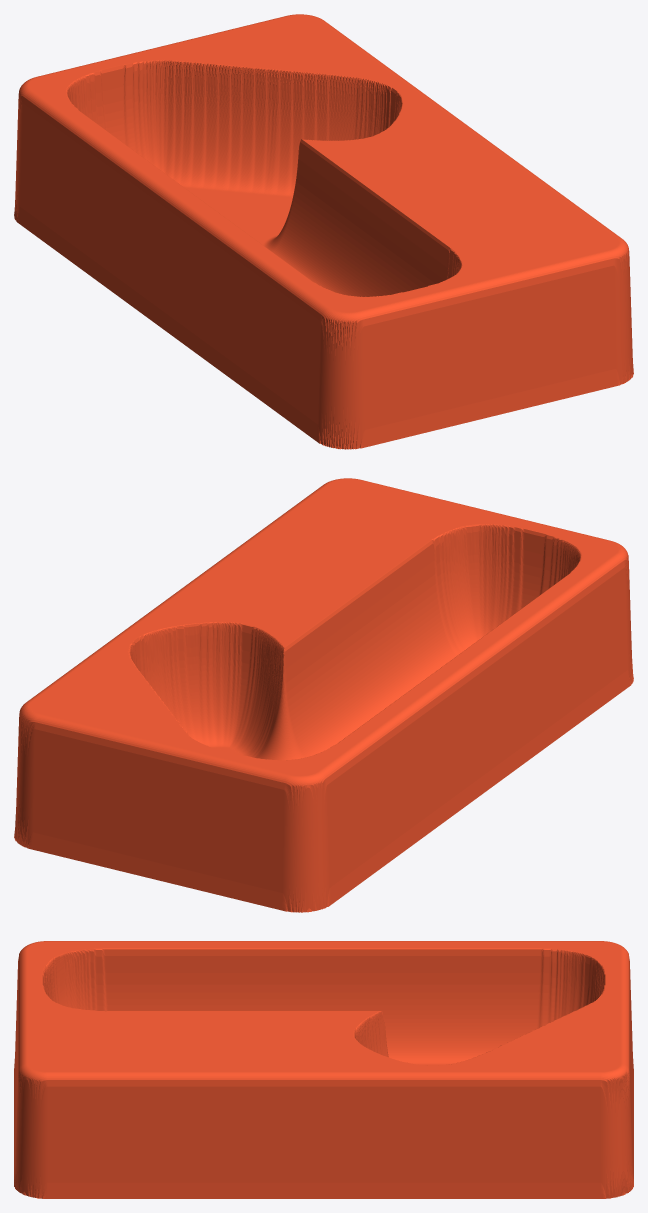
Rendered from mold.glb.
The picture shows the model from 3 angles, top to bottom: view 1: azimuth 30°, elevation 25°; view 2: azimuth 150°, elevation 25°; view 3: azimuth 270°, elevation 25°; orthographic projection. The views are drawn at different scales.
Parts seen in each view (by area): view 1: geometry_0; view 2: geometry_0; view 3: geometry_0.
Boxes of the visible parts, <box> form: geometry_0: <box>14,14,633,449</box>; geometry_0: <box>14,478,633,912</box>; geometry_0: <box>14,941,633,1198</box>.
Bounding box in the file's own units: 0.0912 × 0.0365 × 0.1689.
